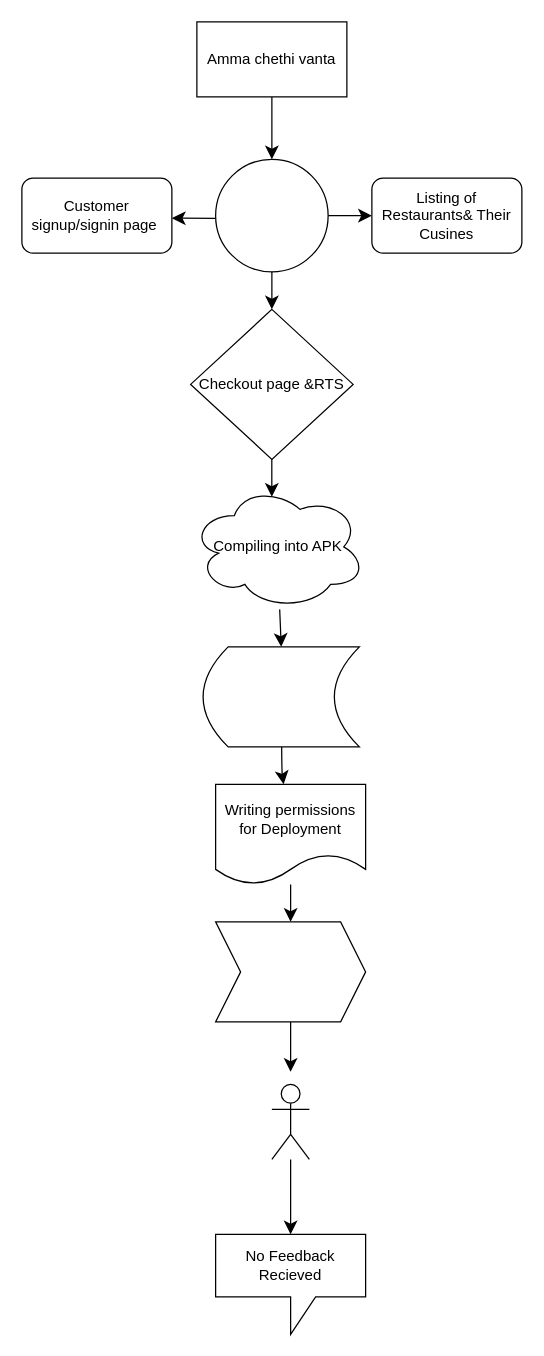
Image size: 544x1356. Some labels were removed from this diagram. Each missing label, with the centre of its shape:
"Customer using application" belongs at [290,1121].
"Design UVUX" belongs at [271,215].
"No bugs found" belongs at [280,696].
"Releasing int0 appstore" belongs at [290,971].
